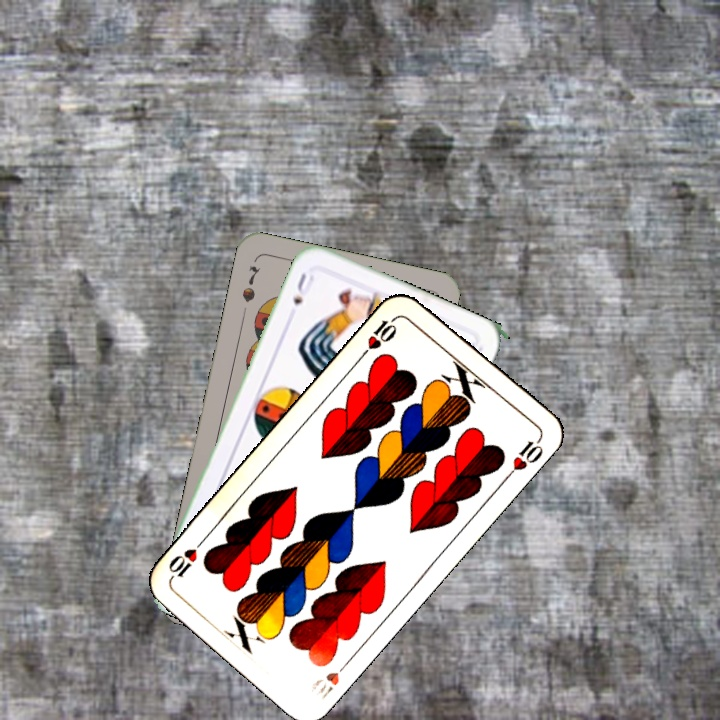H10: (357, 311, 402, 360), (316, 655, 354, 701)
S7: (238, 261, 264, 305)
SU: (288, 269, 317, 308)
